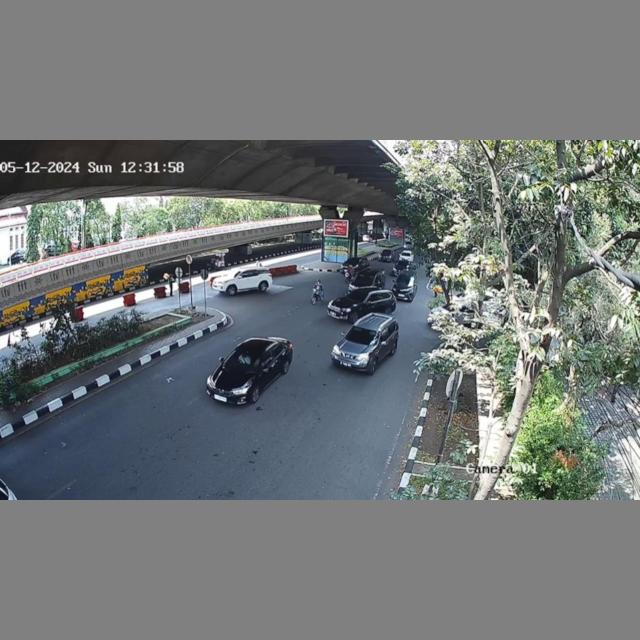windshield: (223, 349, 261, 376), (346, 324, 382, 349)
